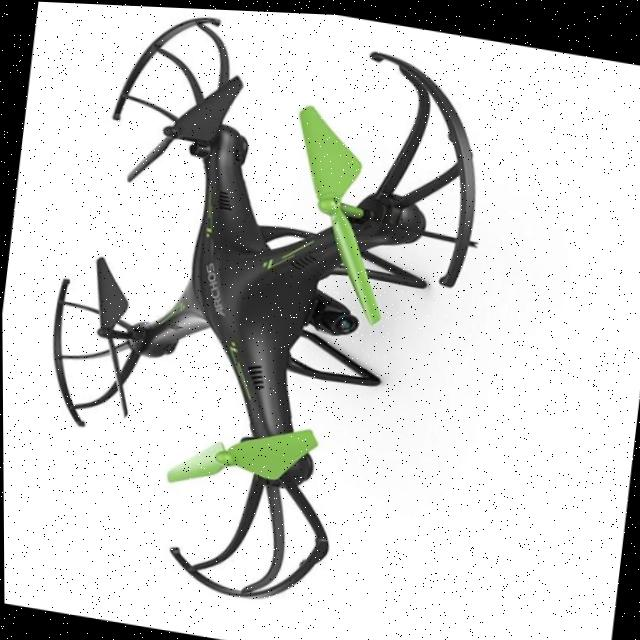drones: (3, 0, 518, 640)
